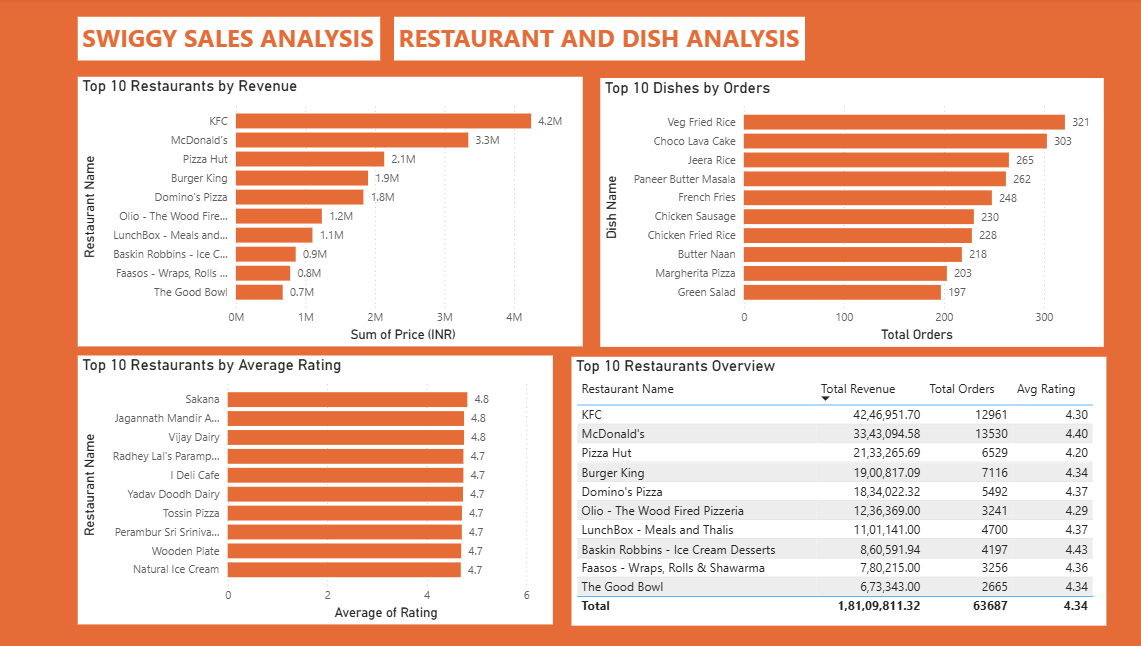

The page's visual inventory and layout, read from the dashboard file:
{"tool":"powerbi","page":{"name":"Restaurant and Dish Analysis","canvas":[1280,720],"ordinal":1},"visuals":[{"type":"textbox","box":[97.4,20.6,332.1,48],"z":0},{"type":"textbox","box":[444.6,20.6,451.5,48],"z":1000},{"type":"clusteredBarChart","title":"Top 10 Restaurants by Revenue","fields":{"Y":["Sum(Swiggy.Price (INR))"],"Category":["Swiggy.Restaurant Name"]},"box":[97.4,86.4,554.4,296.4],"z":2000},{"type":"clusteredBarChart","title":"Top 10 Dishes by Orders","fields":{"Category":["Swiggy.Dish Name"],"Y":["Swiggy.Total Orders"]},"box":[671,87.8,553,295],"z":3000},{"type":"clusteredBarChart","title":"Top 10 Restaurants by Average Rating","fields":{"Y":["Avg(Swiggy.Rating)"],"Category":["Swiggy.Restaurant Name"]},"box":[97.4,392.5,521.4,295],"z":4000},{"type":"tableEx","title":"Top 10 Restaurants Overview","fields":{"Values":["Swiggy.Restaurant Name","Swiggy.Total Revenue","Swiggy.Total Orders","Swiggy.Avg Rating"]},"box":[639.5,393.8,587.3,295],"z":5000}]}

Visuals, with their boxes in screenshot pixels (x1, y1, x2, y2), scaled from the page's 1280x720 canvas onto the 1141x646 screenshot:
textbox: 87 18 383 62
textbox: 396 18 799 62
"Top 10 Restaurants by Revenue" clusteredBarChart: 87 78 581 343
"Top 10 Dishes by Orders" clusteredBarChart: 598 79 1091 343
"Top 10 Restaurants by Average Rating" clusteredBarChart: 87 352 552 617
"Top 10 Restaurants Overview" tableEx: 570 353 1094 618
